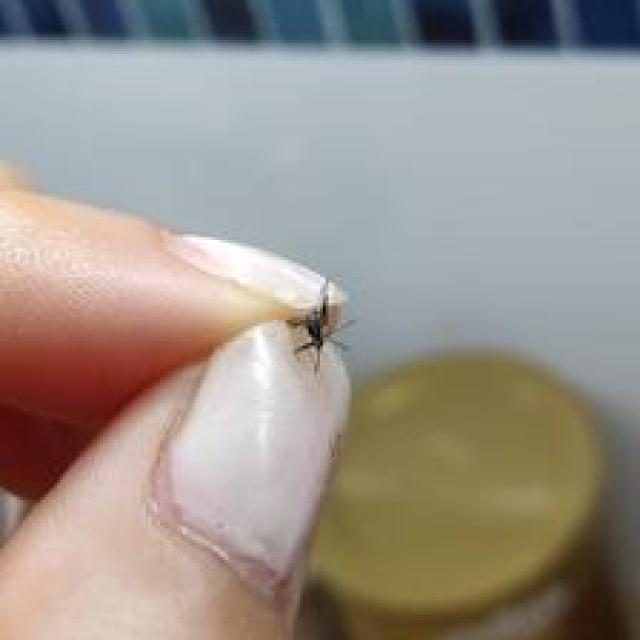Aedes albopictus: (284, 274, 353, 374)
